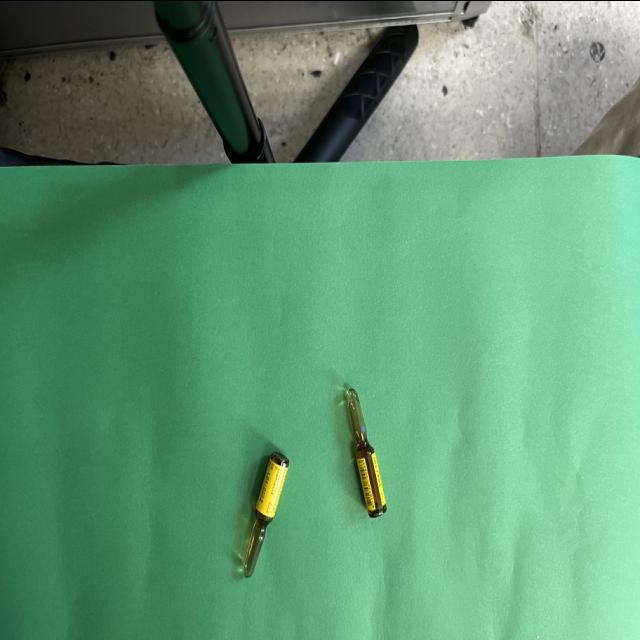Ampoules: (243, 451, 290, 576), (346, 388, 386, 516)
